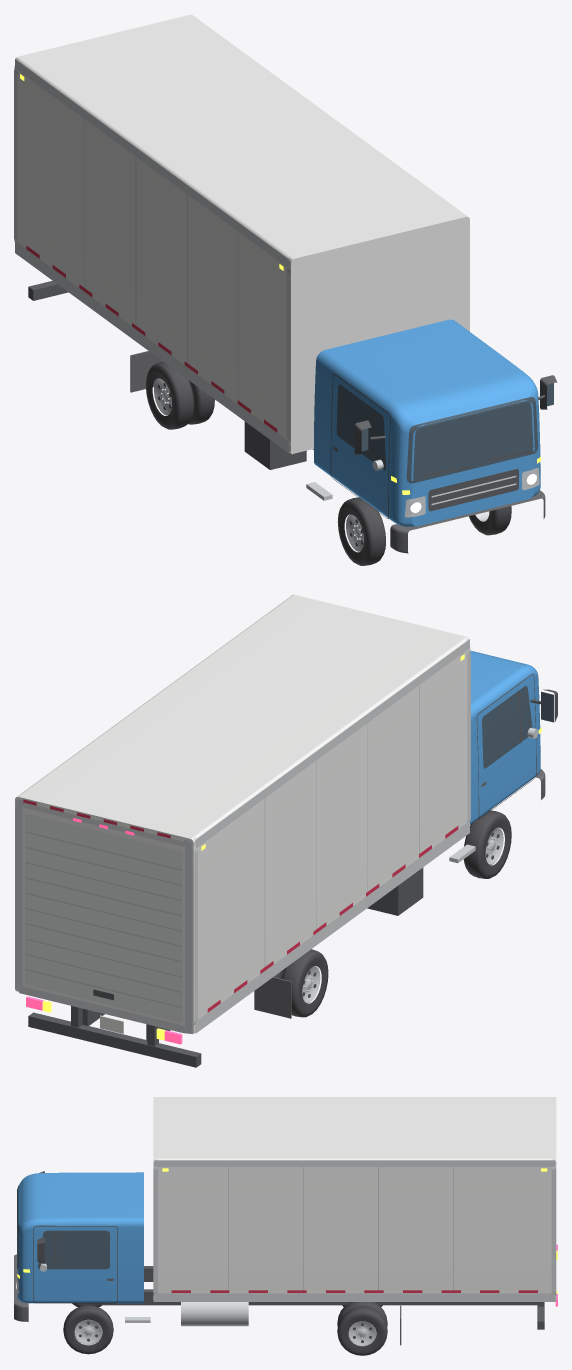
Rendered from truck-box.glb.
3 views of the same model, one above another, from view 1: azimuth 30°, elevation 25°; view 2: azimuth 150°, elevation 25°; view 3: azimuth 270°, elevation 25° (orthographic). The views are drawn at different scales.
Parts seen in each view (by area): view 1: truck-box; view 2: truck-box; view 3: truck-box.
Boxes of the visible parts, bbox=[...] form: truck-box: bbox=[14, 14, 557, 565]; truck-box: bbox=[15, 594, 557, 1067]; truck-box: bbox=[14, 1097, 557, 1355].
Bounding box in the file's own units: 2.74 × 3.63 × 8.84.
